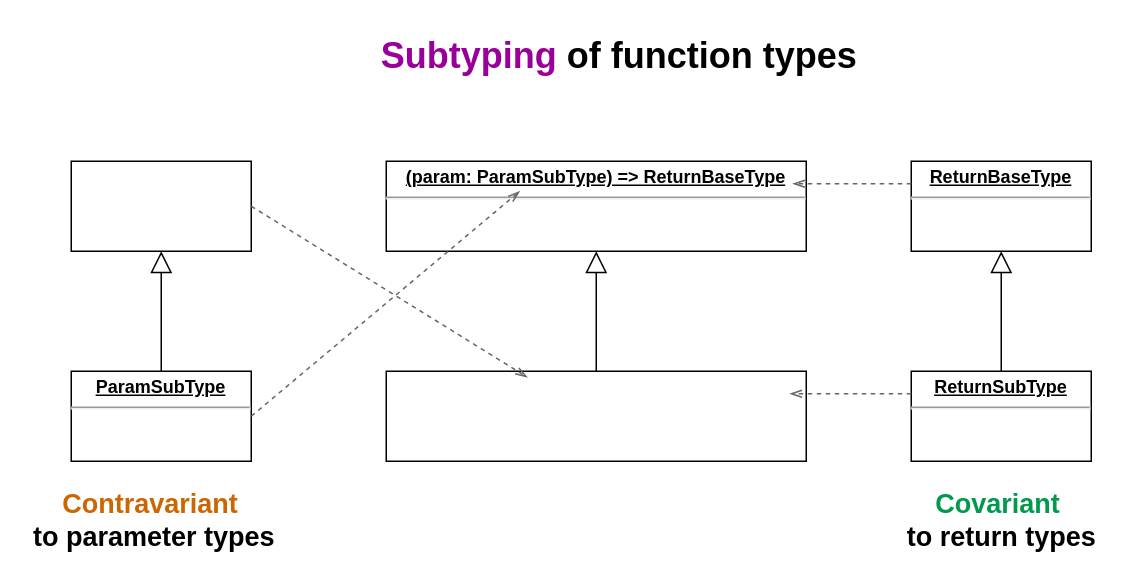
Image size: 1124x579. Some labels were removed from this diagram. The centre of each missing label's shape, as x and y in pixels:
(param: ParamBaseType) => ReturnSubType: the point at 595,415
ParamBaseType: the point at 160,205
